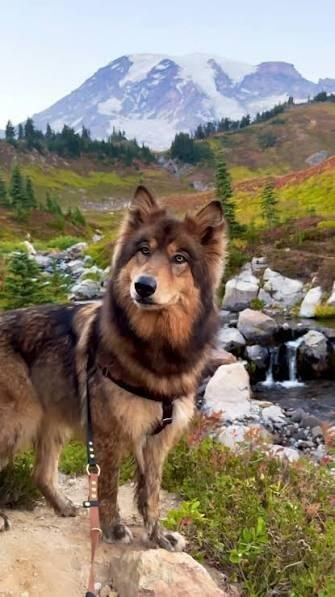adult_dog: (0, 182, 232, 553)
